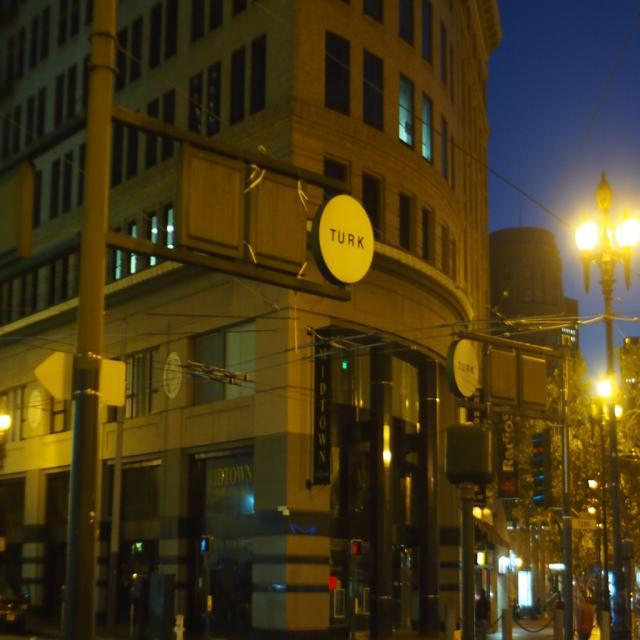off traffic light: (532, 424, 550, 510)
